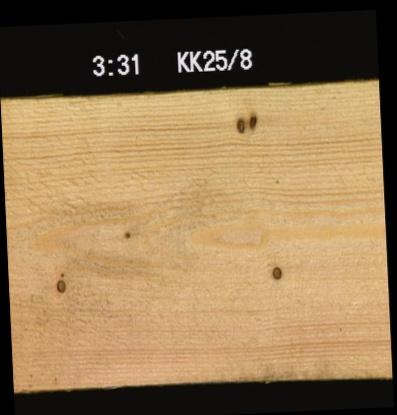dry_knot: (54, 277, 65, 293), (270, 264, 281, 279), (247, 112, 257, 127), (235, 116, 244, 132)
small_knot: (122, 227, 131, 238)
